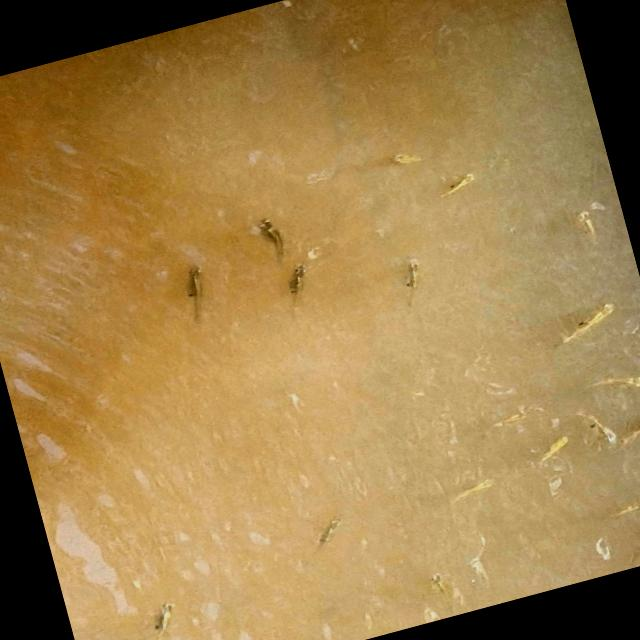Sivrisinek Baligi: (548, 294, 626, 344), (169, 260, 223, 326), (382, 251, 442, 306), (272, 262, 324, 314), (560, 200, 613, 246), (133, 597, 184, 640), (588, 359, 640, 401), (444, 471, 504, 507), (252, 210, 291, 262), (433, 168, 489, 202), (416, 562, 463, 602), (314, 510, 354, 555)
